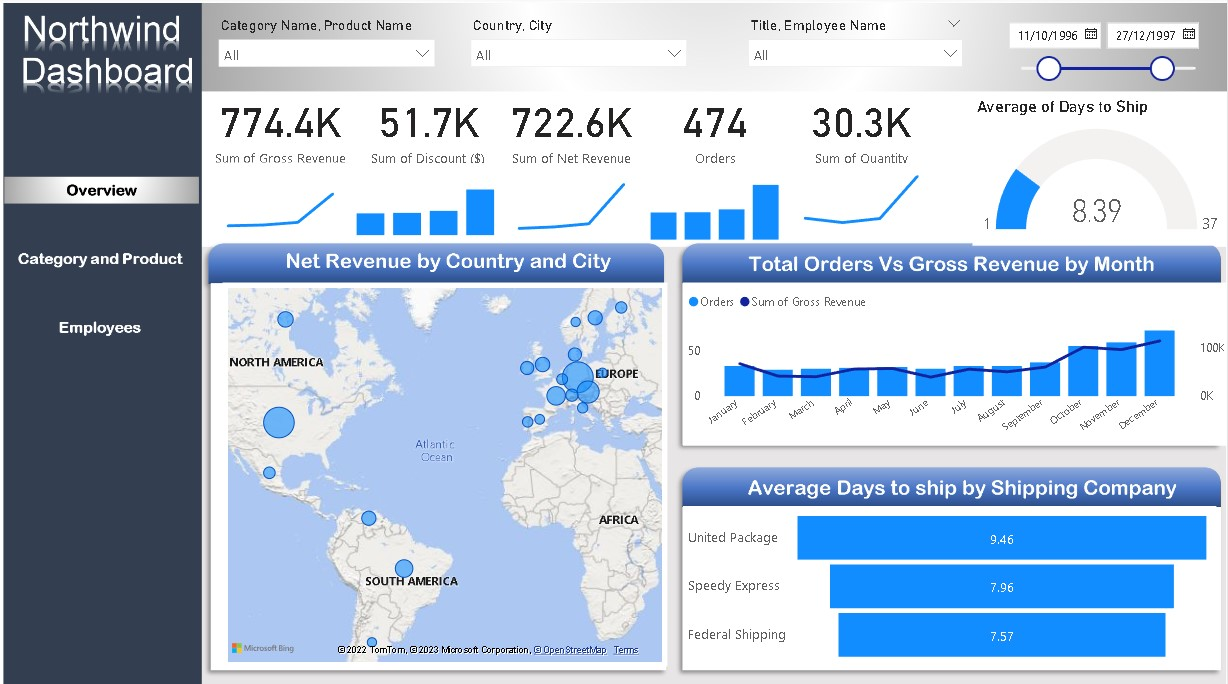

The page's visual inventory and layout, read from the dashboard file:
{"tool":"powerbi","page":{"name":"Dashboard","canvas":[1280,720],"ordinal":0},"visuals":[{"type":"slicer","fields":{"Values":["Product.CategoryName","Product.ProductName"]},"box":[218.3,16.7,245,73.3],"z":0},{"type":"slicer","fields":{"Values":["Order_Details.Country","Order_Details.City"]},"box":[481.7,16.7,245,73.3],"z":1000},{"type":"slicer","fields":{"Values":["Order_Details.Title","Order_Details.FirstName"]},"box":[770,16.7,243.3,73.3],"z":2000},{"type":"slicer","fields":{"Values":["Order_Details.OrderDate"]},"box":[1038.3,16.7,228.3,73.3],"z":3000},{"type":"card","fields":{"Values":["Order_Details.Gross Revenue"]},"box":[218.3,95,148.3,83.3],"z":4000},{"type":"lineChart","fields":{"Category":["Order_Details.OrderDate.Variation.Date Hierarchy.Quarter"],"Y":["Order_Details.Gross Revenue"]},"box":[218.3,173.3,148.3,81.7],"z":5000},{"type":"card","fields":{"Values":["Order_Details.Discount ($)"]},"box":[371.7,95,150,83.3],"z":6000},{"type":"clusteredColumnChart","fields":{"Y":["Order_Details.Gross Revenue"],"Category":["Order_Details.OrderDate.Variation.Date Hierarchy.Quarter"]},"box":[366.7,173.3,155,81.7],"z":7000},{"type":"lineChart","fields":{"Category":["Order_Details.OrderDate.Variation.Date Hierarchy.Quarter"],"Y":["Order_Details.Net Revenue"]},"box":[521.7,178.3,148.3,81.7],"z":8000},{"type":"card","fields":{"Values":["Order_Details.Net Revenue"]},"box":[521.7,95,148.3,83.3],"z":9000},{"type":"clusteredColumnChart","fields":{"Category":["Order_Details.OrderDate.Variation.Date Hierarchy.Quarter"],"Y":["Order_Details.Orders"]},"box":[673.3,178.3,145,81.7],"z":10000},{"type":"card","fields":{"Values":["Order_Details.Orders"]},"box":[673.3,95,145,83.3],"z":11000},{"type":"card","fields":{"Values":["Order_Details.Quantity"]},"box":[818.3,95,158.3,83.3],"z":12000},{"type":"lineChart","fields":{"Category":["Order_Details.OrderDate.Variation.Date Hierarchy.Quarter"],"Y":["Order_Details.Quantity"]},"box":[818.3,173.3,158.3,81.7],"z":13000},{"type":"gauge","title":"Average of Days to Ship","fields":{"Y":["Order_Details.Days to Ship"],"MinValue":["Sum(Order_Details.Days to Ship)1"],"MaxValue":["Sum(Order_Details.Days to Ship)2"]},"box":[1013.3,105,266.7,155],"z":14000},{"type":"map","fields":{"Category":["Order_Details.Country","Order_Details.City"],"Size":["Order_Details.Net Revenue"]},"box":[233.3,298.3,463.3,400],"z":15000},{"type":"lineClusteredColumnComboChart","fields":{"Category":["Order_Details.OrderDate.Variation.Date Hierarchy.Month"],"Y":["Order_Details.Orders"],"Y2":["Order_Details.Gross Revenue"]},"box":[711.7,298.3,568.3,170],"z":16000},{"type":"funnel","fields":{"Category":["Order_Details.ShipperCcompany"],"Y":["Order_Details.Days to Ship"]},"box":[711.7,531.7,555,166.7],"z":17000},{"type":"actionButton","box":[15,328.3,191.7,31.7],"z":17001},{"type":"actionButton","box":[15,260,191.7,31.7],"z":17002}]}

Visuals, with their boxes in screenshot pixels (x1, y1, x2, y2), scaled from the page's 1280x720 canvas onto the 1228x684 screenshot:
slicer - Product.CategoryName x Product.ProductName: [x1=209, y1=16, x2=444, y2=86]
slicer - Order_Details.Country x Order_Details.City: [x1=462, y1=16, x2=697, y2=86]
slicer - Order_Details.Title x Order_Details.FirstName: [x1=739, y1=16, x2=972, y2=86]
slicer - Order_Details.OrderDate: [x1=996, y1=16, x2=1215, y2=86]
card - Order_Details.Gross Revenue: [x1=209, y1=90, x2=352, y2=169]
lineChart - Order_Details.OrderDate.Variation.Date Hierarchy.Quarter x Order_Details.Gross Revenue: [x1=209, y1=165, x2=352, y2=242]
card - Order_Details.Discount ($): [x1=357, y1=90, x2=501, y2=169]
clusteredColumnChart - Order_Details.Gross Revenue x Order_Details.OrderDate.Variation.Date Hierarchy.Quarter: [x1=352, y1=165, x2=501, y2=242]
lineChart - Order_Details.OrderDate.Variation.Date Hierarchy.Quarter x Order_Details.Net Revenue: [x1=501, y1=169, x2=643, y2=247]
card - Order_Details.Net Revenue: [x1=501, y1=90, x2=643, y2=169]
clusteredColumnChart - Order_Details.OrderDate.Variation.Date Hierarchy.Quarter x Order_Details.Orders: [x1=646, y1=169, x2=785, y2=247]
card - Order_Details.Orders: [x1=646, y1=90, x2=785, y2=169]
card - Order_Details.Quantity: [x1=785, y1=90, x2=937, y2=169]
lineChart - Order_Details.OrderDate.Variation.Date Hierarchy.Quarter x Order_Details.Quantity: [x1=785, y1=165, x2=937, y2=242]
"Average of Days to Ship" gauge: [x1=972, y1=100, x2=1227, y2=247]
map - Order_Details.Country x Order_Details.City: [x1=224, y1=283, x2=668, y2=663]
lineClusteredColumnComboChart - Order_Details.OrderDate.Variation.Date Hierarchy.Month x Order_Details.Orders: [x1=683, y1=283, x2=1227, y2=445]
funnel - Order_Details.ShipperCcompany x Order_Details.Days to Ship: [x1=683, y1=505, x2=1215, y2=663]
actionButton: [x1=14, y1=312, x2=198, y2=342]
actionButton: [x1=14, y1=247, x2=198, y2=277]
